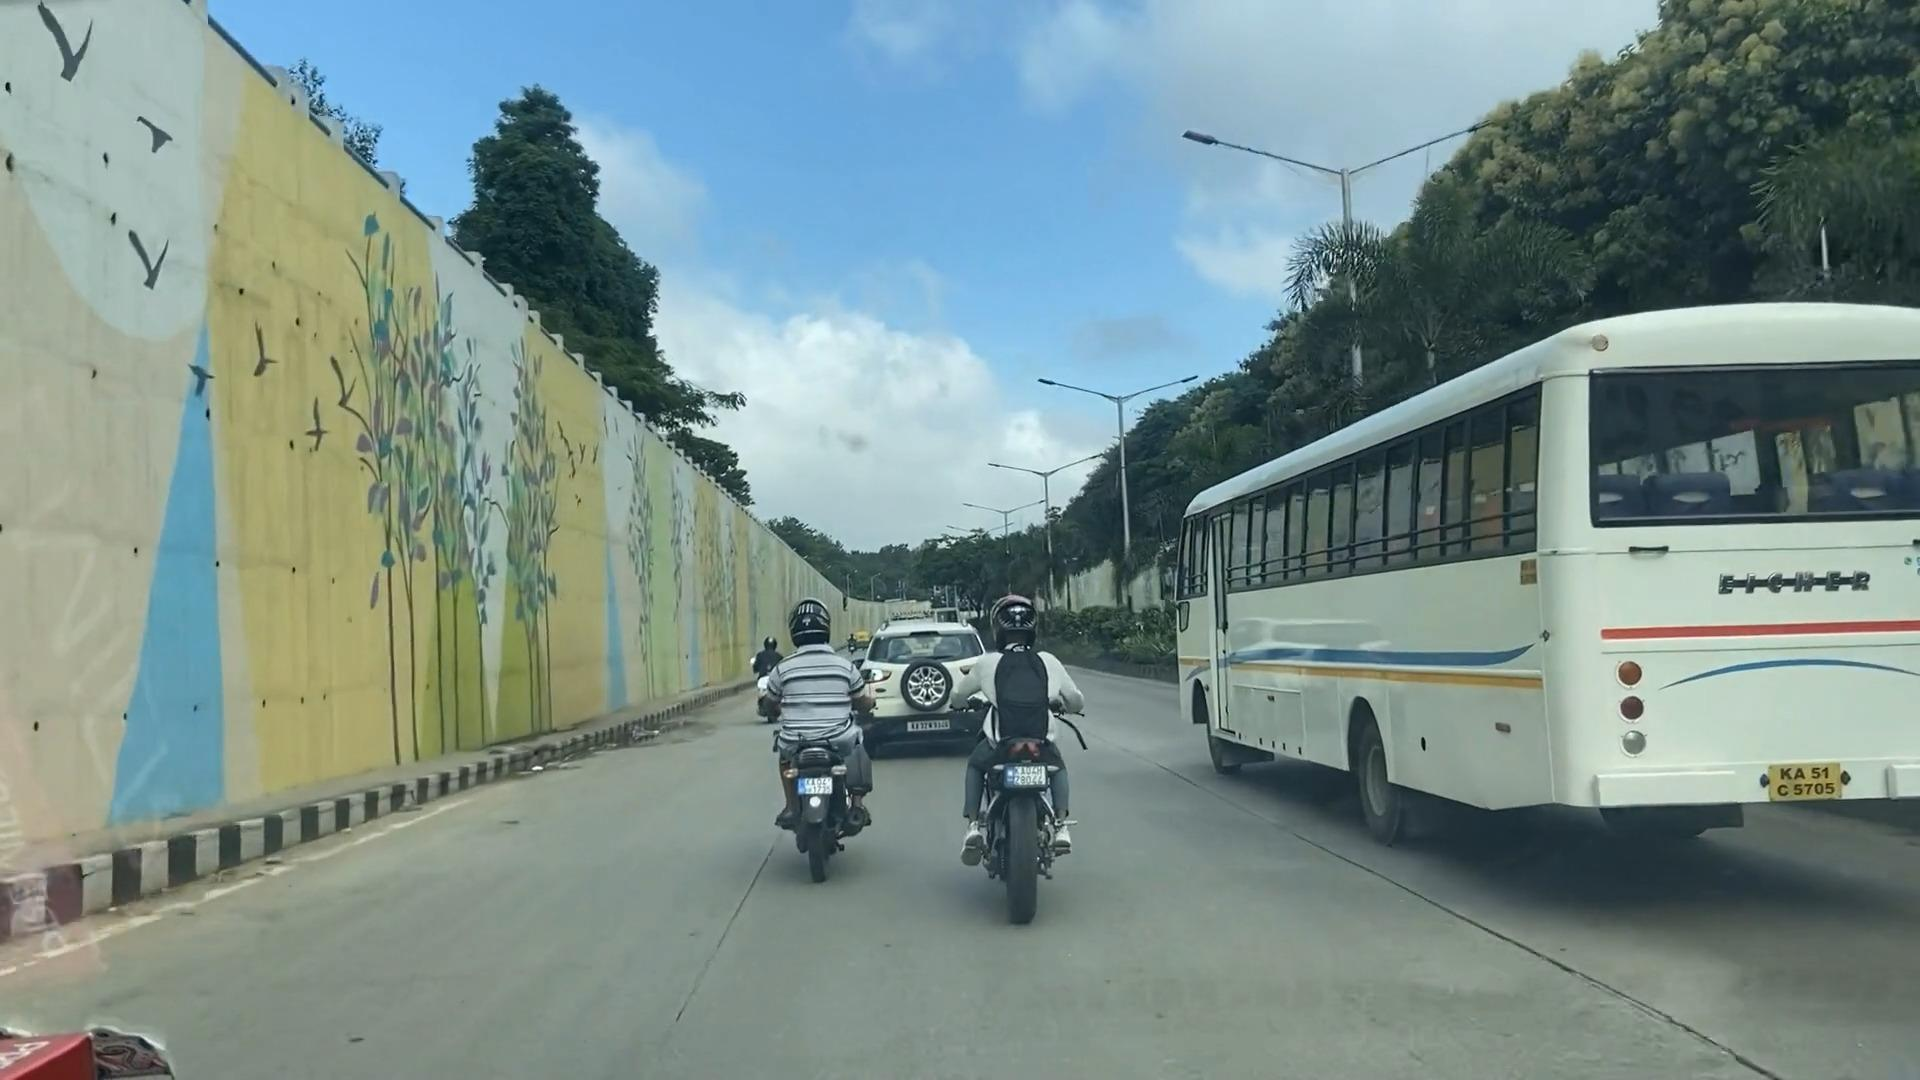HMV: (1178, 322, 1920, 843)
LMV: (960, 616, 1080, 913), (765, 613, 873, 856), (885, 611, 997, 731)
